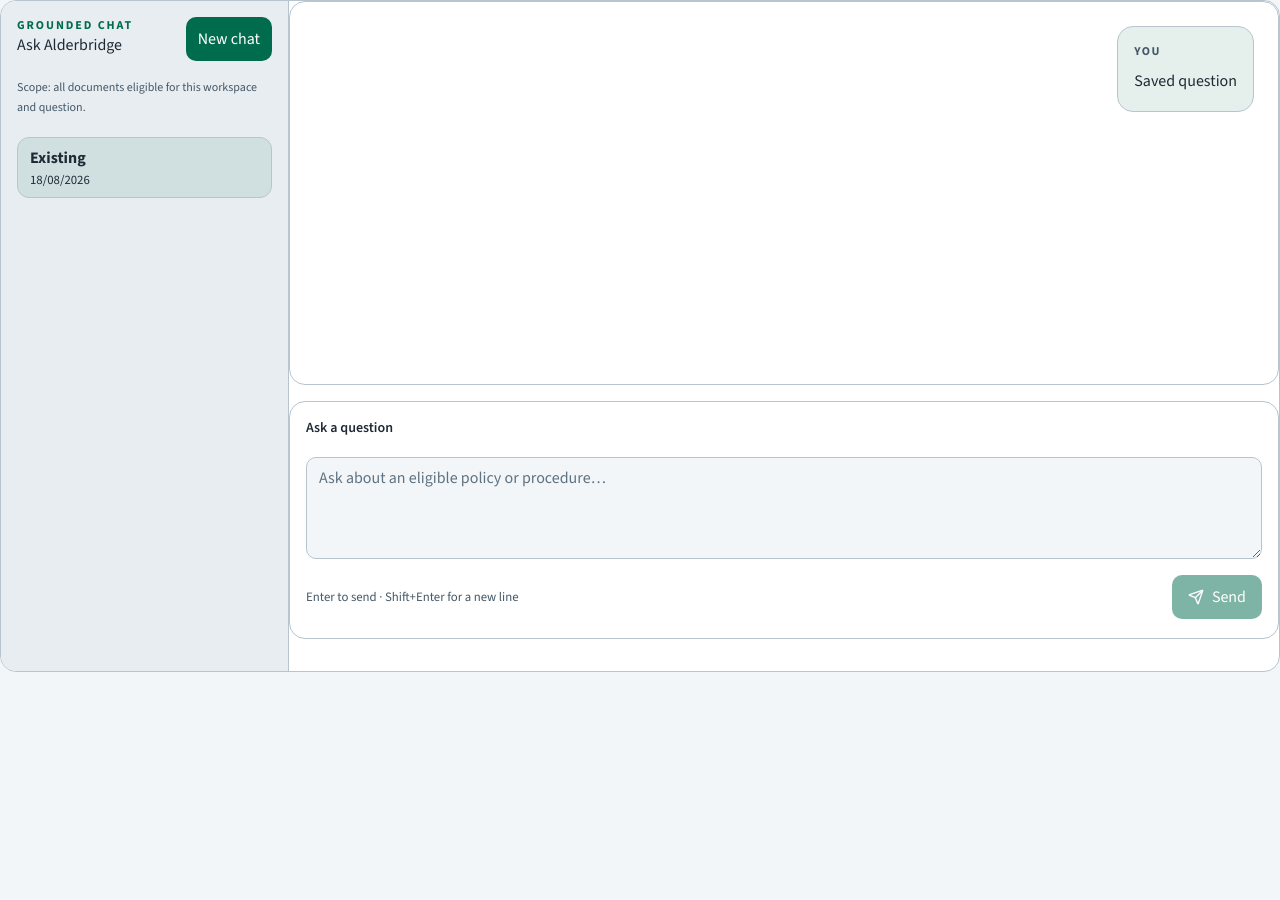
ChatWorkspace › keeps prior messages visible when a later request fails
Expected: the text "Saved question" is shown, x1=1134 y1=67 x2=1237 y2=95
Type "Another question" into the text box labelled "Ask a question" at (784,508), box x1=306 y1=457 x2=1262 y2=559
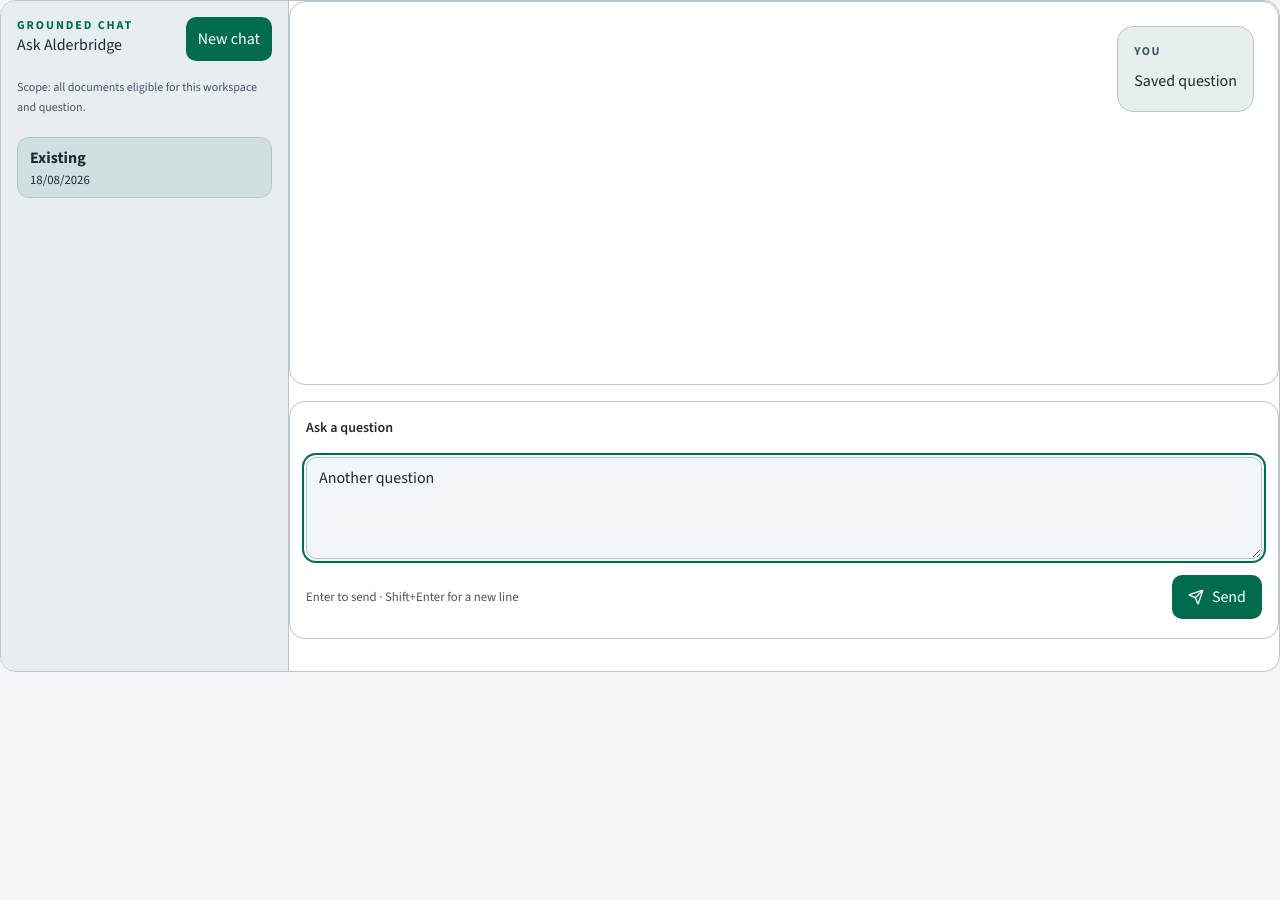
Click the button "Send" at (1217,597), box x1=1172 y1=575 x2=1262 y2=619
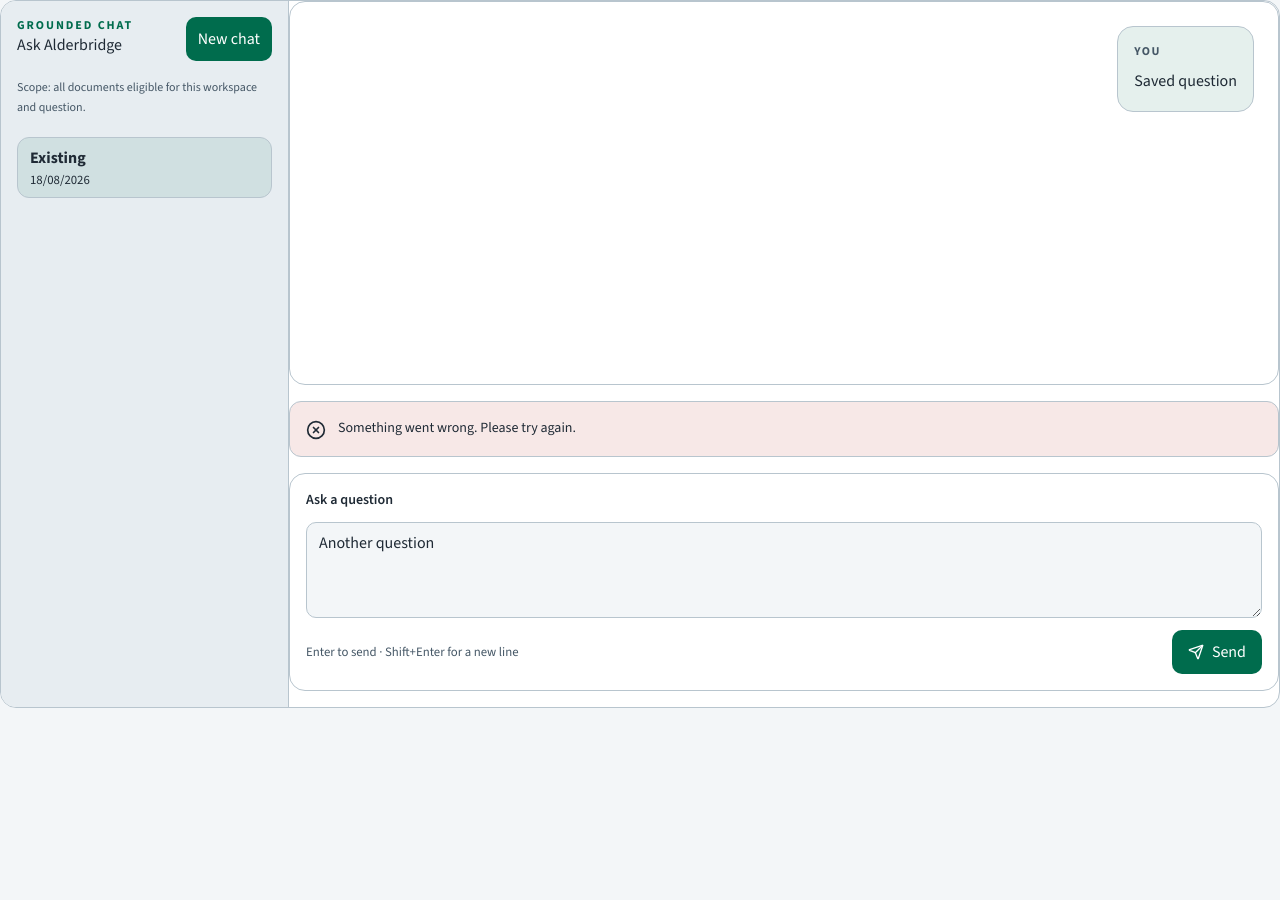
Expected: the text "Saved question" is shown, x1=1134 y1=67 x2=1237 y2=95
Result: the message shows "Something went wrong" at x1=338 y1=418 x2=576 y2=437
